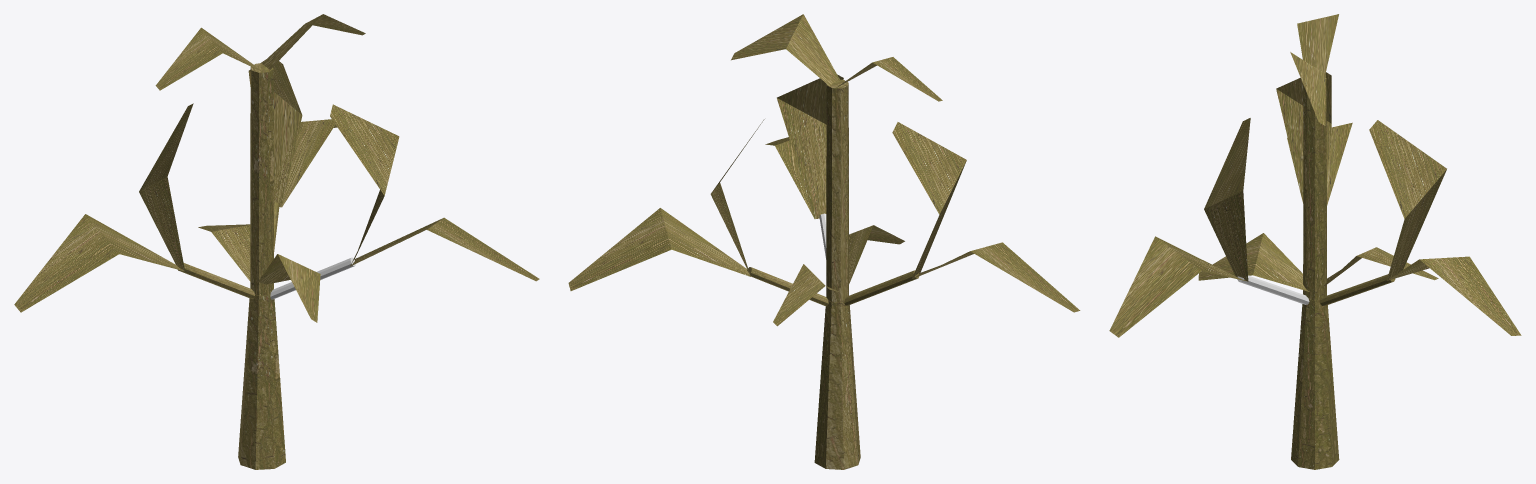
File: potato3.glb
The picture shows the model from 3 angles, left to right: view 1: azimuth 30°, elevation 25°; view 2: azimuth 150°, elevation 25°; view 3: azimuth 270°, elevation 25°; orthographic projection. The views are drawn at different scales.
Parts seen in each view (by area): view 1: stem.001; view 2: stem.001; view 3: stem.001.
Boxes of the visible parts, x1=… form: stem.001: x1=14, y1=14, x2=539, y2=469; stem.001: x1=568, y1=14, x2=1080, y2=469; stem.001: x1=1109, y1=14, x2=1521, y2=469.
Size of the model in its own units: 0.3137 by 0.3118 by 0.2703.
Materials: 1 (1 with a texture image).
